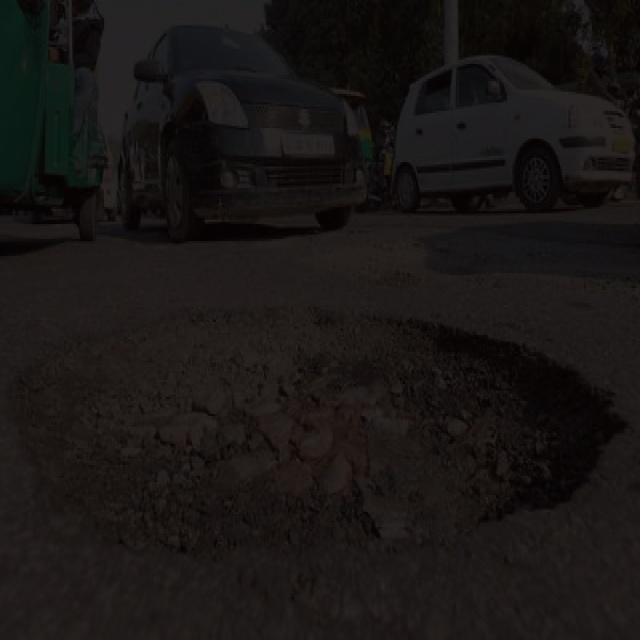Pothole: (8, 298, 631, 570)
